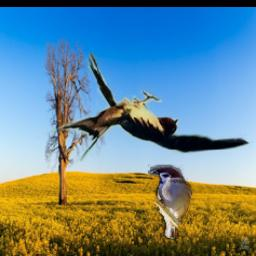Sparrow: (149, 165, 193, 239)
Swallow: (28, 53, 254, 163)
